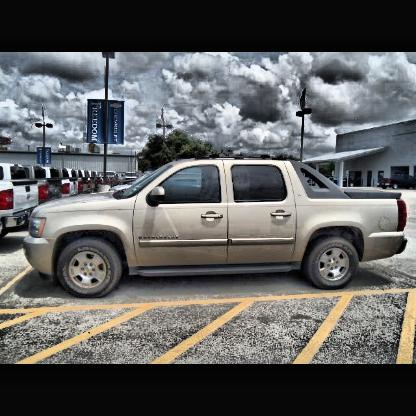Chevrolet Avalanche Crew Cab 2012: (25, 159, 407, 299)
